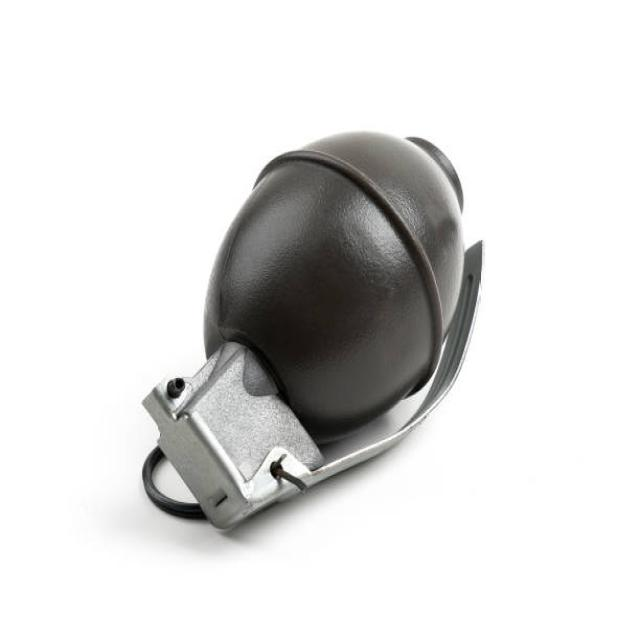grenade: (138, 112, 487, 543)
